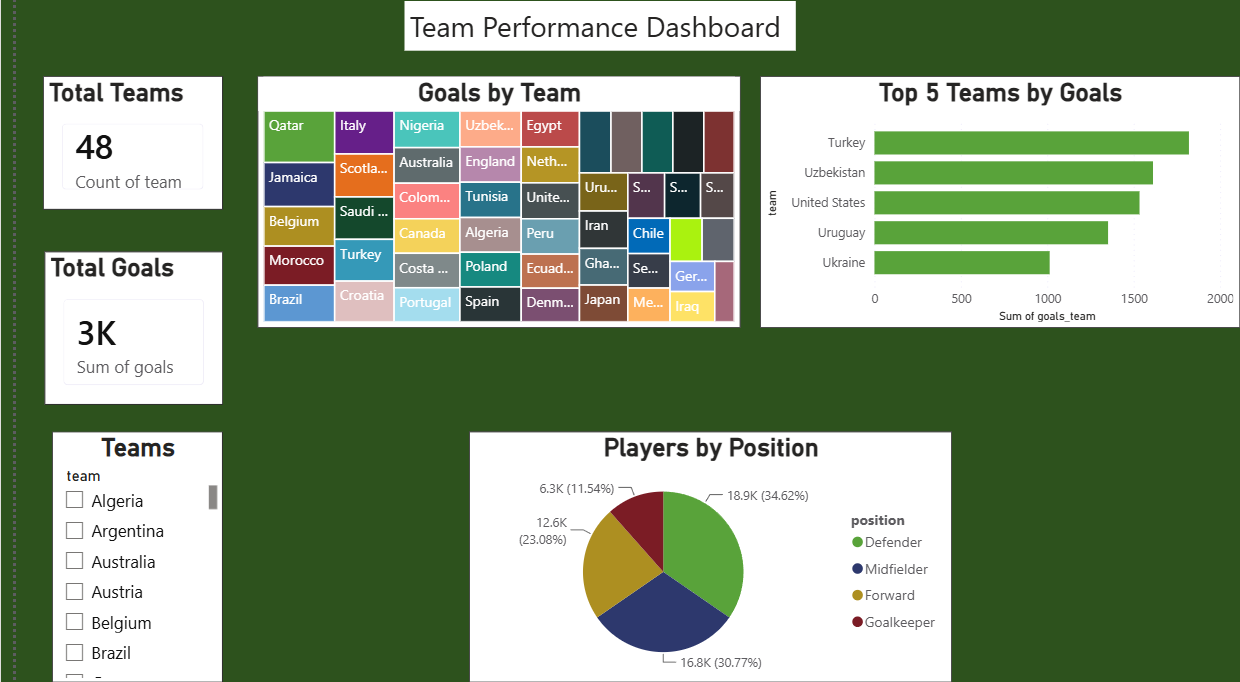

The page's visual inventory and layout, read from the dashboard file:
{"tool":"powerbi","page":{"name":"Page 4","canvas":[1280,720],"ordinal":3},"visuals":[{"type":"cardVisual","title":"Total Teams","fields":{"Data":["Count(fifa_Cleaned.team)"]},"box":[25.7,77.1,171.4,127.1],"z":0},{"type":"cardVisual","title":"Total Goals","fields":{"Data":["Sum(fifa_Cleaned.goals)"]},"box":[27.1,244.3,170,145.7],"z":1000},{"type":"treemap","title":"Goals by Team","fields":{"Group":["fifa_Cleaned.team"],"Values":["Sum(fifa_Cleaned.goals_team)"]},"box":[230,77.1,460,240],"z":2000},{"type":"pieChart","title":"Players by Position","fields":{"Category":["fifa_Cleaned.position"],"Y":["CountNonNull(fifa_Cleaned.player_id)"]},"box":[431.4,415.7,460,240],"z":3000},{"type":"barChart","title":"Top 5 Teams by Goals","fields":{"Category":["fifa_Cleaned.team"],"Y":["Sum(fifa_Cleaned.goals_team)"]},"box":[708.6,77.1,457.1,240],"z":4000},{"type":"slicer","title":"Teams","fields":{"Values":["fifa_Cleaned.team"]},"box":[34.3,415.7,162.9,240],"z":5000},{"type":"textbox","box":[370,5.7,372.9,47.1],"z":6000}]}

Visuals, with their boxes in screenshot pixels (x1, y1, x2, y2), scaled from the page's 1280x720 canvas onto the 1240x682 screenshot:
"Total Teams" cardVisual: pyautogui.locateOnScreen(25, 73, 191, 193)
"Total Goals" cardVisual: pyautogui.locateOnScreen(26, 231, 191, 369)
"Goals by Team" treemap: pyautogui.locateOnScreen(223, 73, 668, 300)
"Players by Position" pieChart: pyautogui.locateOnScreen(418, 394, 864, 621)
"Top 5 Teams by Goals" barChart: pyautogui.locateOnScreen(686, 73, 1129, 300)
"Teams" slicer: pyautogui.locateOnScreen(33, 394, 191, 621)
textbox: pyautogui.locateOnScreen(358, 5, 720, 50)
